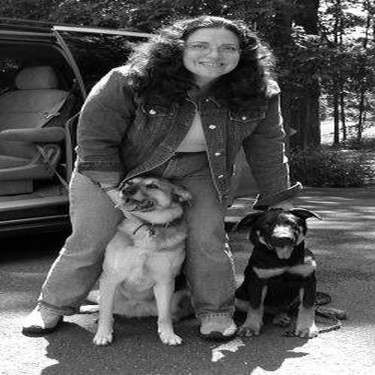dog: (78, 172, 202, 348), (226, 197, 332, 344)
